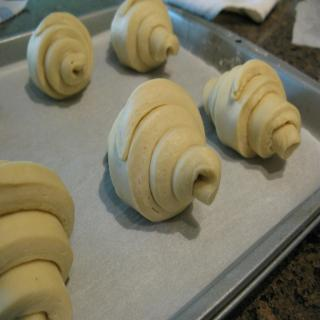Croissant: (104, 79, 224, 235)
